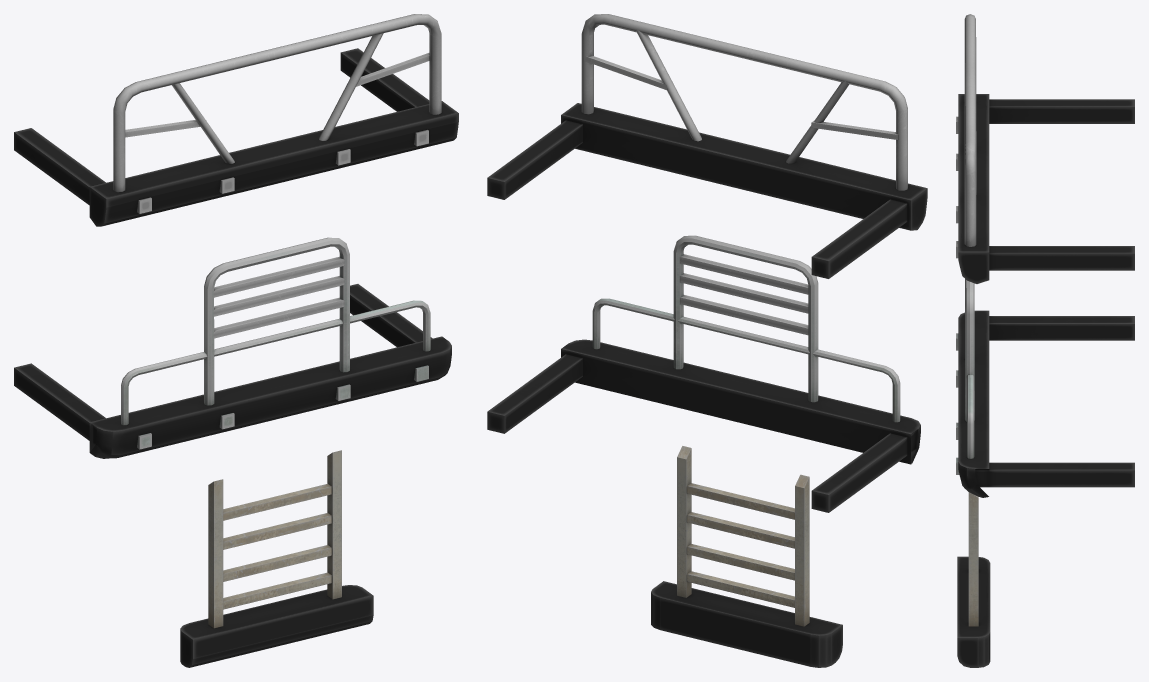
File: bullbars.fbx
3 renders of one model, left to right at view 1: azimuth 30°, elevation 25°; view 2: azimuth 150°, elevation 25°; view 3: azimuth 270°, elevation 25°, orthographic. The views are drawn at different scales.
Parts seen in each view (by area): view 1: bullbar2, bullbar1, bullbar3; view 2: bullbar2, bullbar1, bullbar3; view 3: bullbar1, bullbar2, bullbar3.
Part boxes in pixels (bbox=[...]): bullbar2: bbox=[14, 237, 451, 458]; bullbar1: bbox=[14, 14, 458, 226]; bullbar3: bbox=[180, 450, 373, 667]; bullbar2: bbox=[487, 235, 920, 512]; bullbar1: bbox=[487, 14, 927, 278]; bullbar3: bbox=[651, 446, 842, 667]; bullbar1: bbox=[956, 14, 1134, 283]; bullbar2: bbox=[956, 279, 1134, 497]; bullbar3: bbox=[957, 492, 990, 667].
Size of the model in its own units: 579 by 937 by 277.
